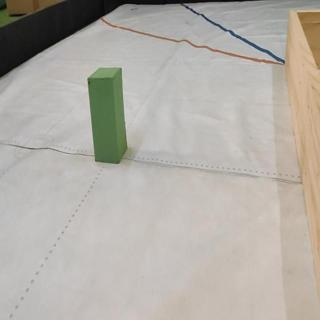greenbox: (87, 68, 128, 164)
